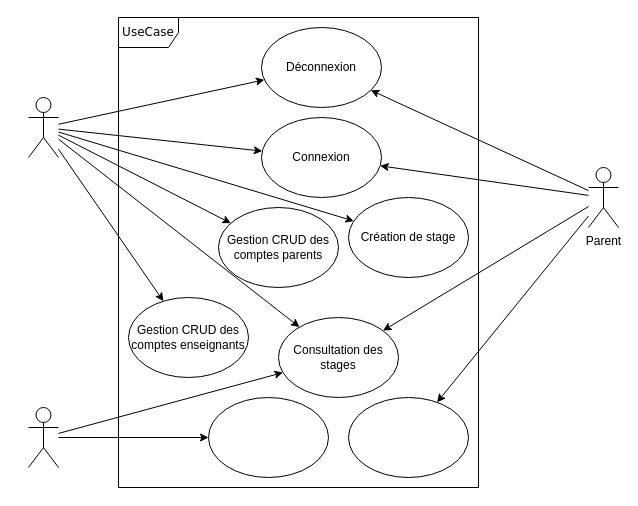
Image size: 638x506. Some labels were removed from this diagram. Here are the shapes that lost their labels. From the top down, the box of each, then its label:
(28, 96, 58, 158): Admin
(28, 406, 58, 468): Utilisateur
(208, 396, 328, 478): S'enregistrer
(348, 396, 468, 478): Inscription à un stage
